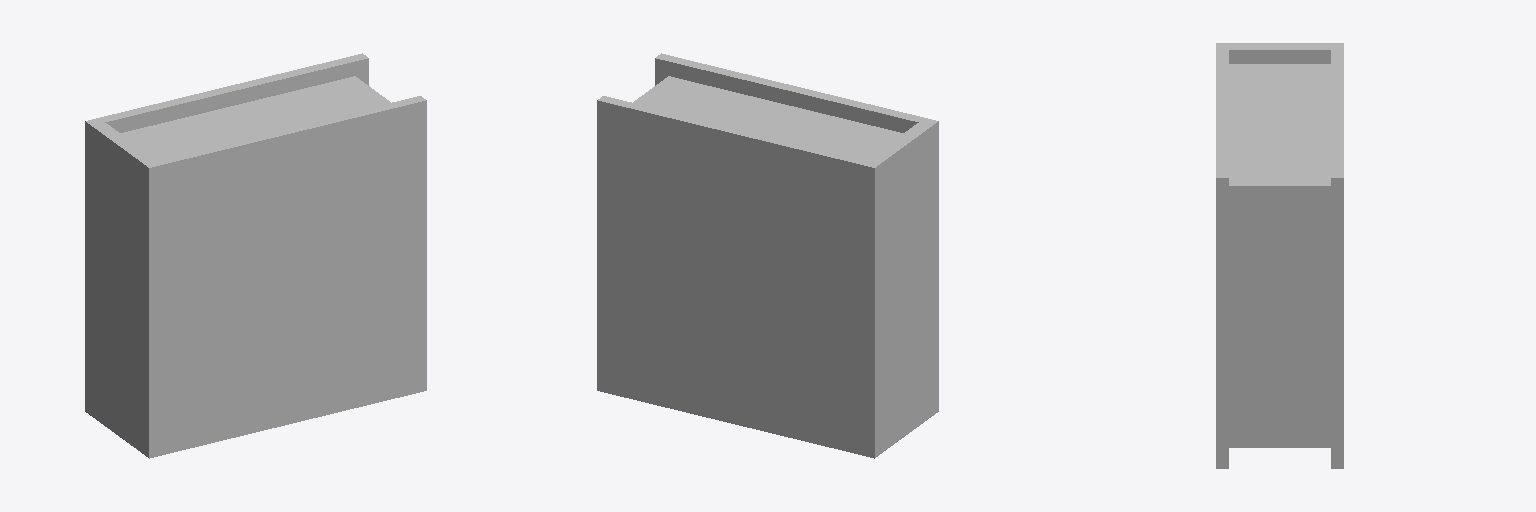
File: book.obj
3 renders of one model, left to right at view 1: azimuth 30°, elevation 25°; view 2: azimuth 150°, elevation 25°; view 3: azimuth 270°, elevation 25°, orthographic.
Visible parts, largest first — view 1: Book_Cube.001; view 2: Book_Cube.001; view 3: Book_Cube.001.
Part boxes in pixels (x1,y1,x2,y2): Book_Cube.001: (85,53,426,458); Book_Cube.001: (597,53,938,458); Book_Cube.001: (1216,43,1343,468).
Bounding box in the file's own units: 2 × 2 × 0.8.